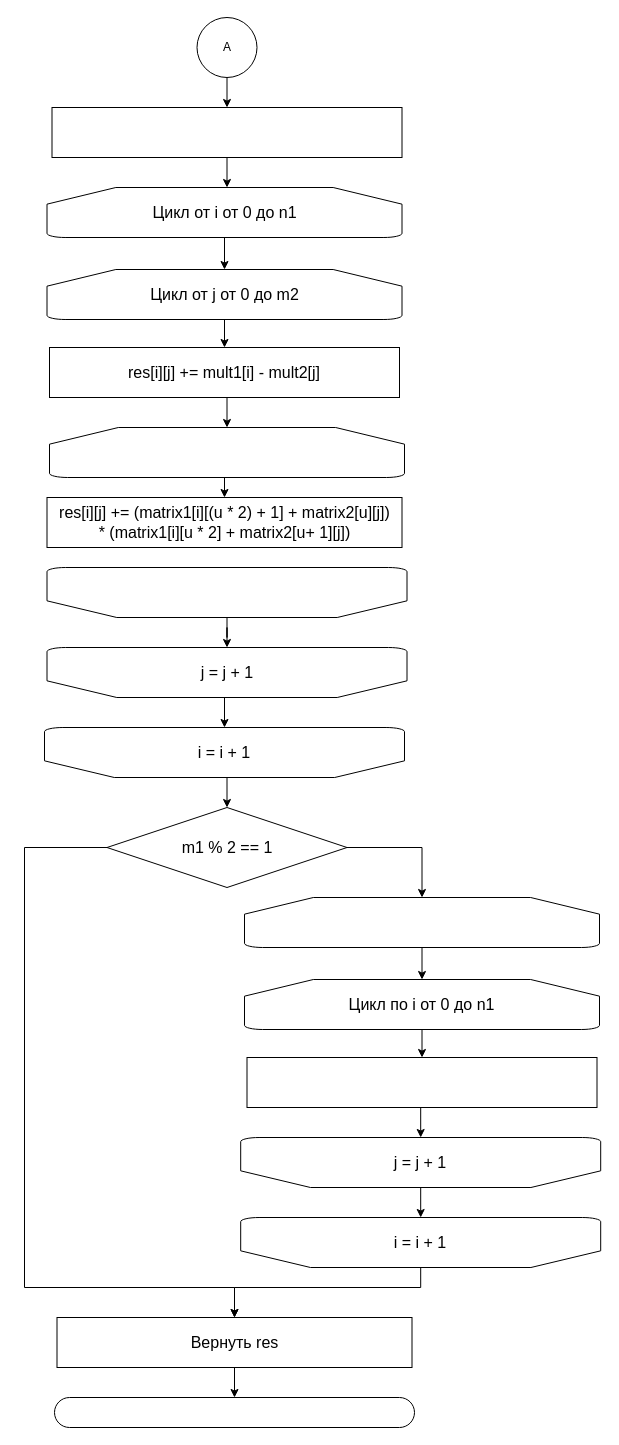
The diagram is 619 pixels wide and 1445 high, and some of its shapes have lost their labels. Here are the shapes that lost their labels. From the top down, the centre of each, then its label:
At [226,132]: "Создать матрицу res размером n1 на m2 и заполнить нулями".
At [226,452]: "Цикл от u от 0 до m1 // 2".
At [226,592]: "u = u + 1".
At [422,922]: "Цикл по j от 0 до m2".
At [421,1082]: "res[i][j] += matrix1[i][m1 - 1] * matrix2[m1 -1][j])".
At [234,1412]: "Конец".
